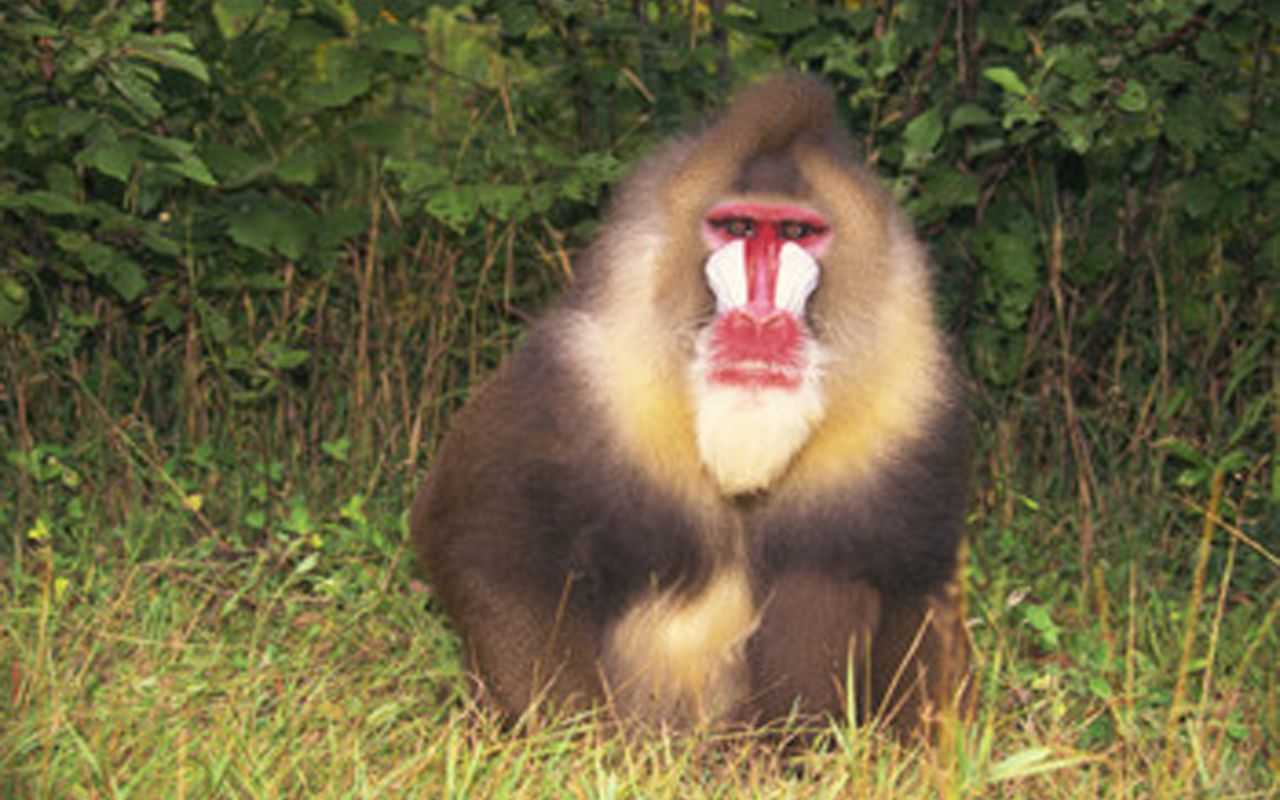Mandrill: (393, 60, 1017, 712)
